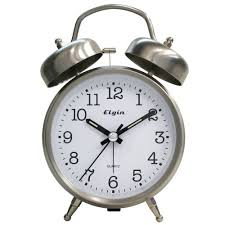alarm_clock: (39, 8, 186, 220), (45, 8, 186, 220)
